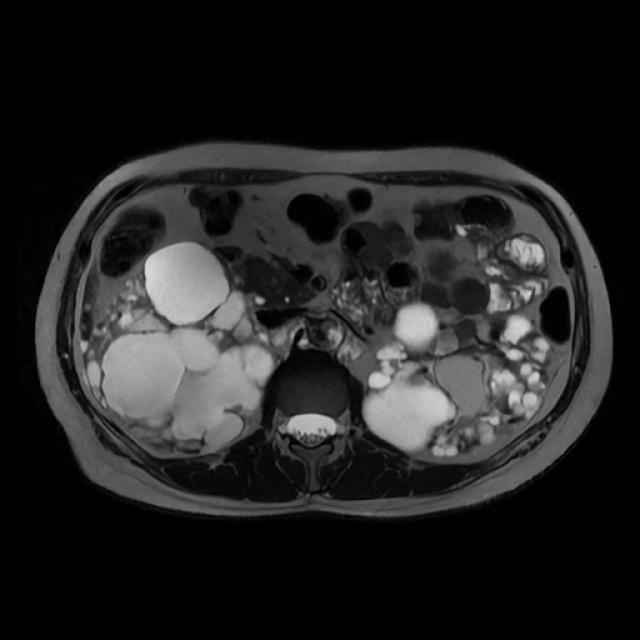sag: (82, 241, 282, 455)
sol: (361, 302, 556, 458)
